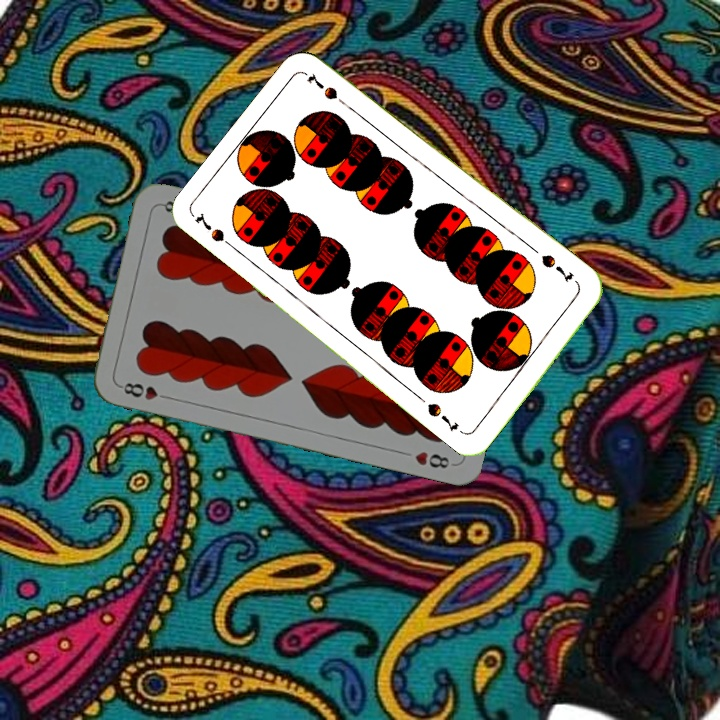H8: (115, 378, 174, 403)
S7: (191, 208, 241, 254), (537, 250, 577, 285)
